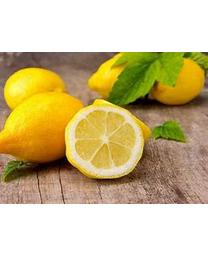lemon: (65, 103, 144, 179), (0, 93, 86, 162), (151, 57, 205, 104), (4, 68, 67, 108)
